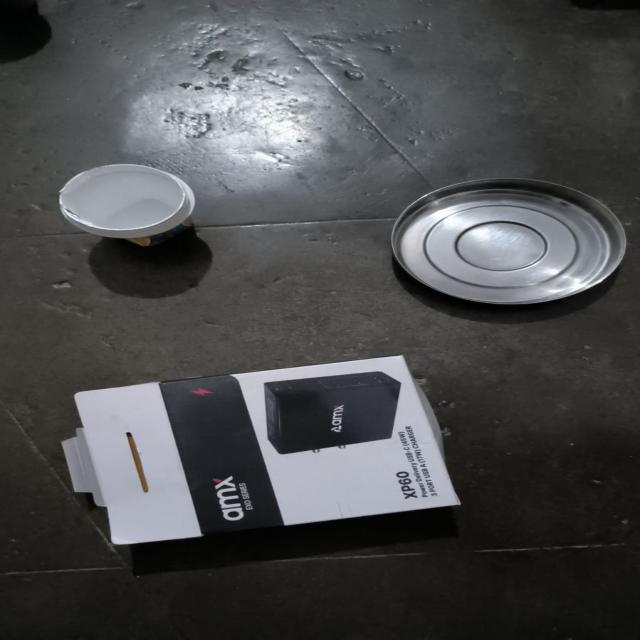metal: (66, 334, 489, 576), (365, 160, 636, 314)
plastic: (38, 151, 228, 263)
